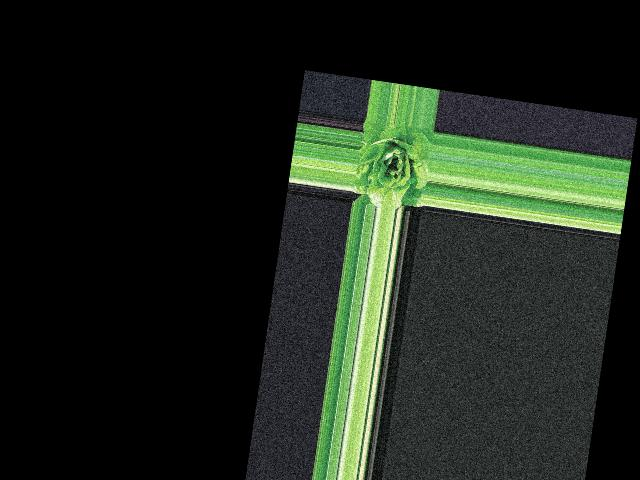lettuce: (351, 120, 432, 209)
